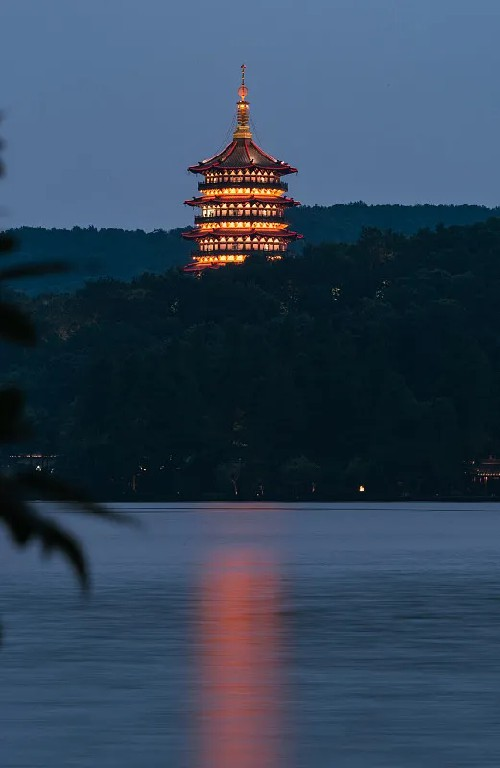Leifeng: (183, 61, 304, 280)
